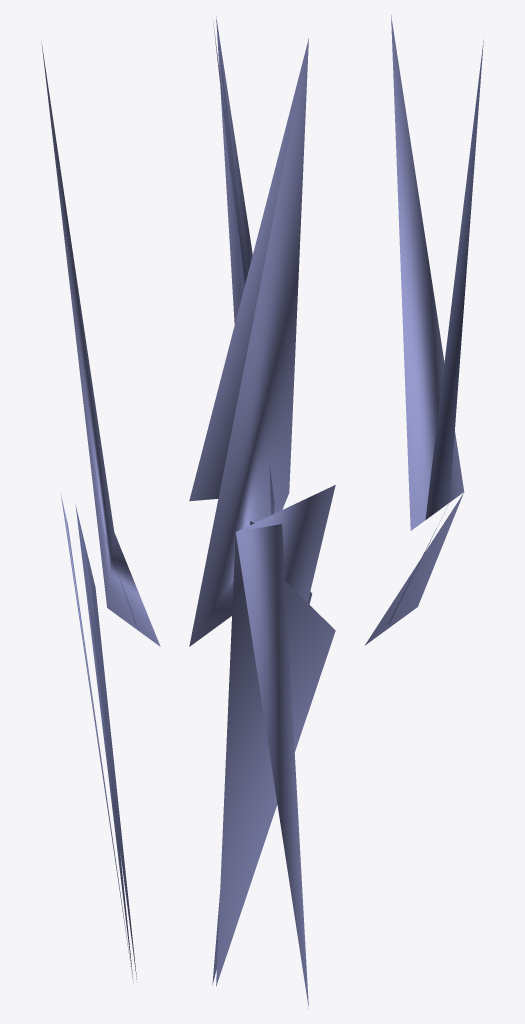
The model's file is equip_head_mithril_full_helm.glb.
The picture shows the model from 3 angles, left to right: view 1: azimuth 30°, elevation 25°; view 2: azimuth 150°, elevation 25°; view 3: azimuth 330°, elevation 25°; orthographic projection.
Visible parts, largest first — view 1: equip_head_mithril_full_helm; view 2: equip_head_mithril_full_helm; view 3: equip_head_mithril_full_helm.
Part boxes in pixels (box(x1,y1,x2,y2)): equip_head_mithril_full_helm: box(41, 41, 160, 983); equip_head_mithril_full_helm: box(189, 16, 335, 1008); equip_head_mithril_full_helm: box(364, 15, 483, 645).
Bounding box in the file's own units: 0.208 × 2 × 0.208.
